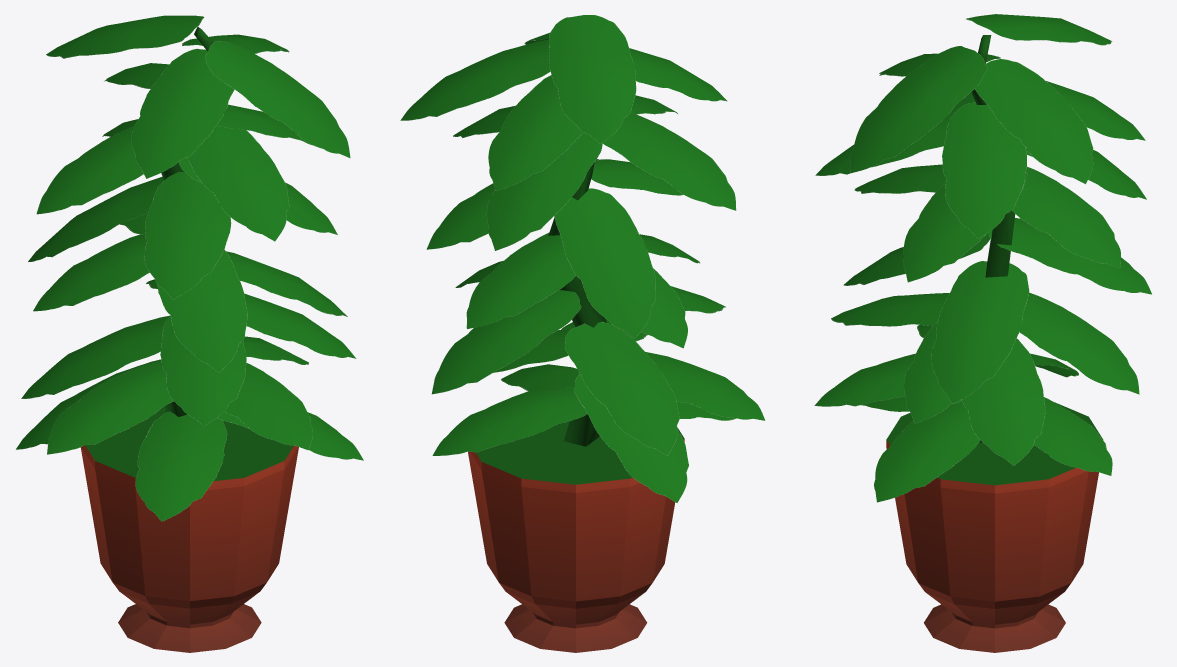
Rendered from planter2.fbx.
3 renders of one model, left to right at view 1: azimuth 30°, elevation 25°; view 2: azimuth 150°, elevation 25°; view 3: azimuth 270°, elevation 25°, orthographic.
Visible parts, largest first — view 1: Cylinder.004; view 2: Cylinder.004; view 3: Cylinder.004.
Boxes of the visible parts, box(x1,y1,x2,y2) form: Cylinder.004: box(16, 15, 363, 652); Cylinder.004: box(400, 15, 765, 652); Cylinder.004: box(814, 14, 1151, 652).
Bounding box in the file's own units: 0.7711 × 1.38 × 0.7429.
Materials: 2 (2 with a texture image).
